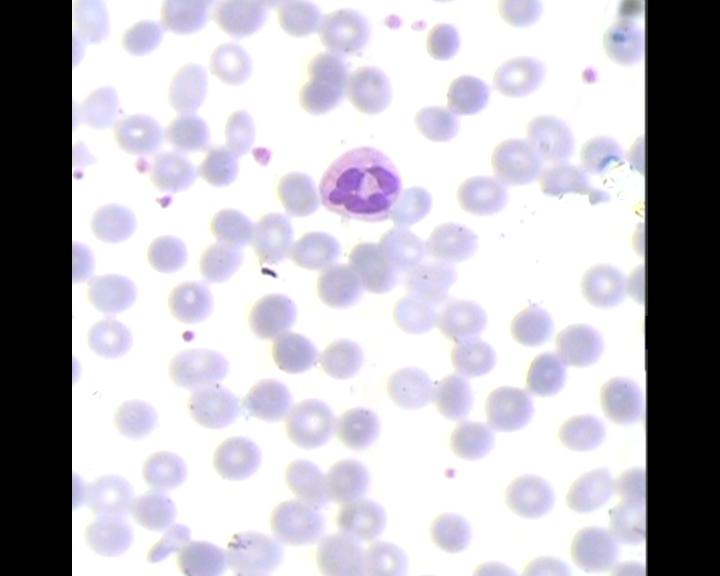neut: (315, 145, 409, 223)
